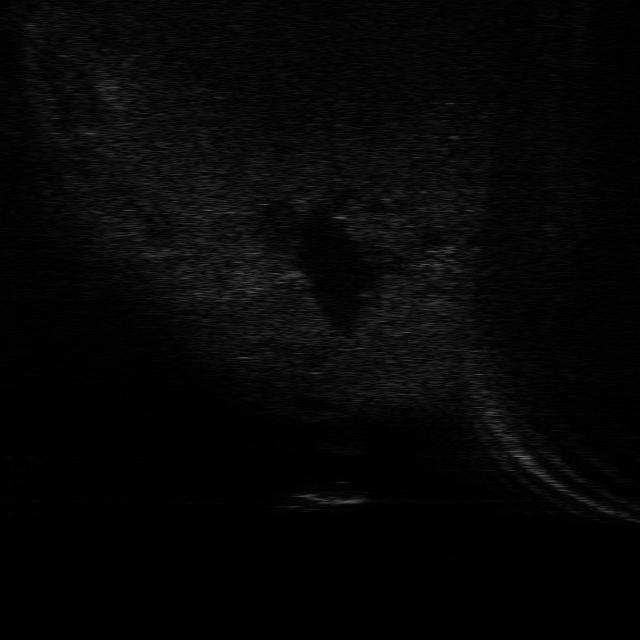cube: (290, 480, 370, 513)
